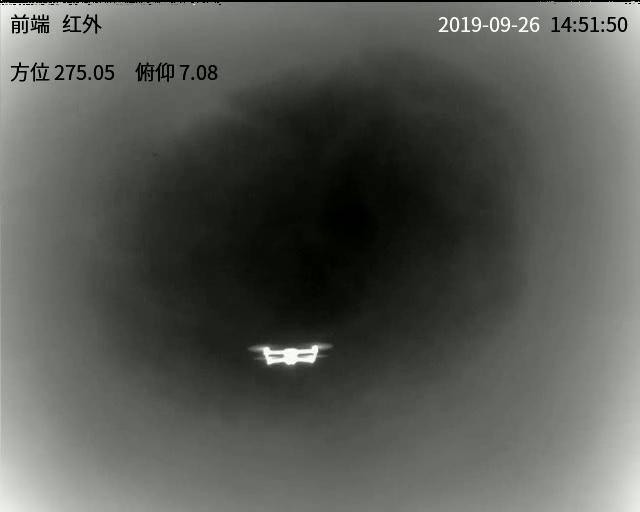DRONE: (253, 343, 328, 366)
